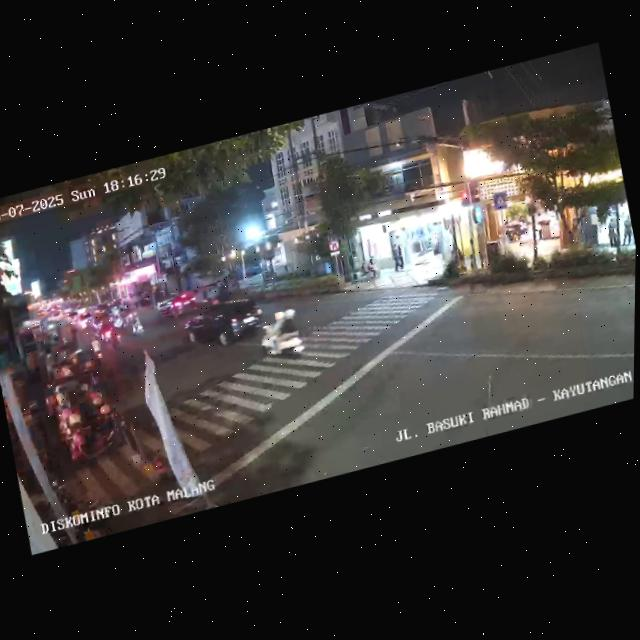car: (180, 294, 266, 359), (153, 289, 200, 324)
motorcycle: (253, 302, 310, 370), (87, 331, 106, 368), (105, 320, 125, 353), (125, 309, 146, 339)
person: (605, 216, 621, 251), (621, 215, 635, 249), (389, 243, 402, 273), (396, 244, 407, 270)
